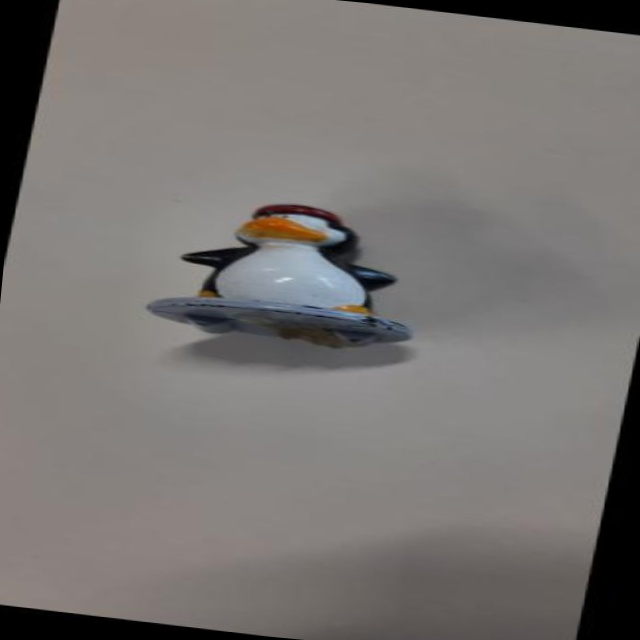Penguin: (155, 185, 428, 357)
